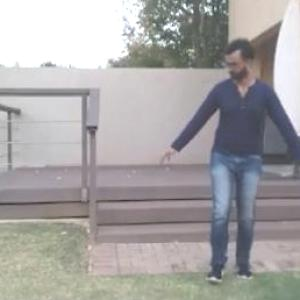land: (160, 24, 299, 278)
